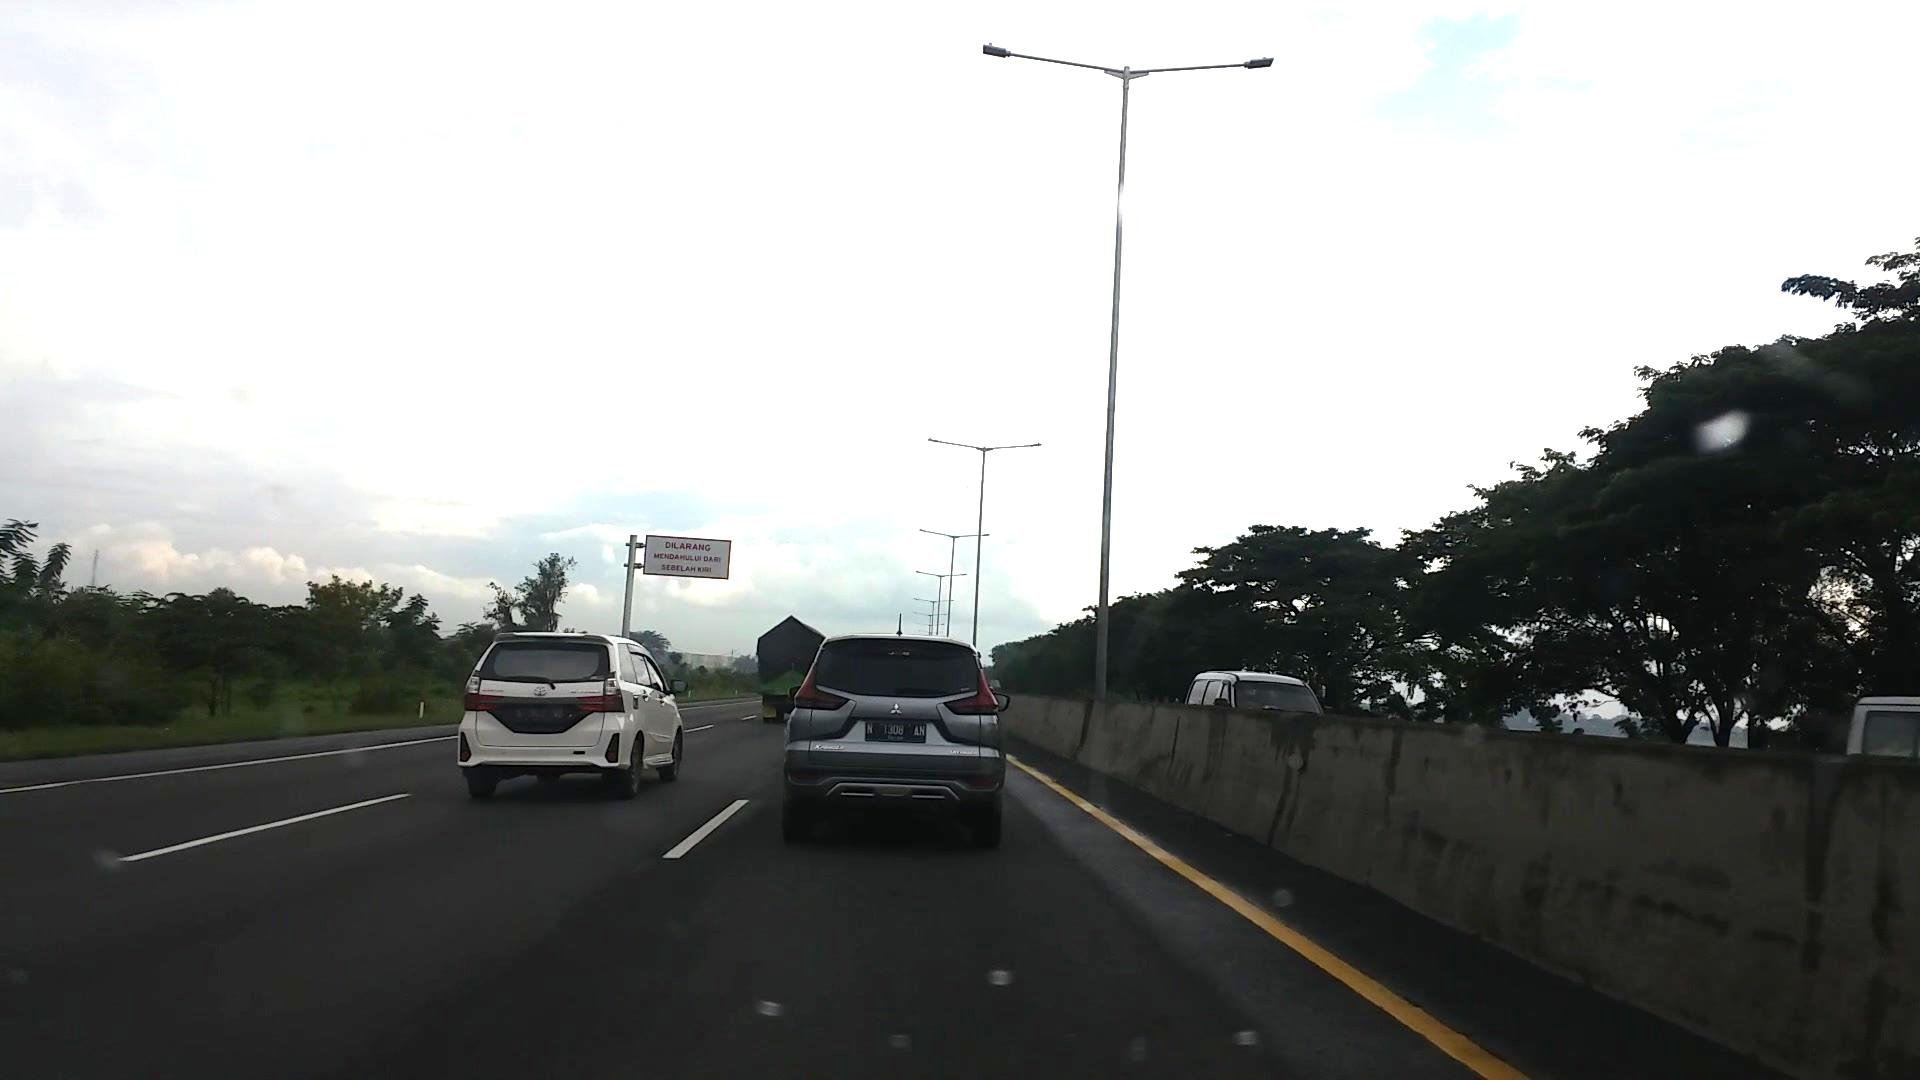plate_positive: (865, 719, 927, 742)
